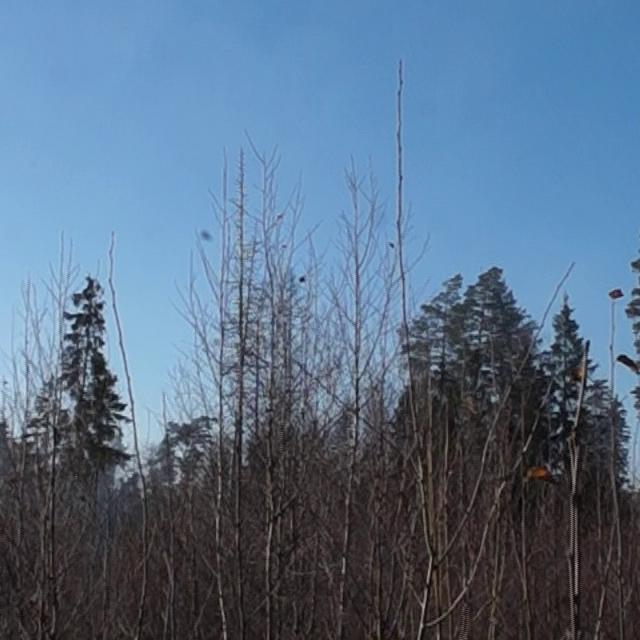Smoke: (1, 428, 22, 504)
